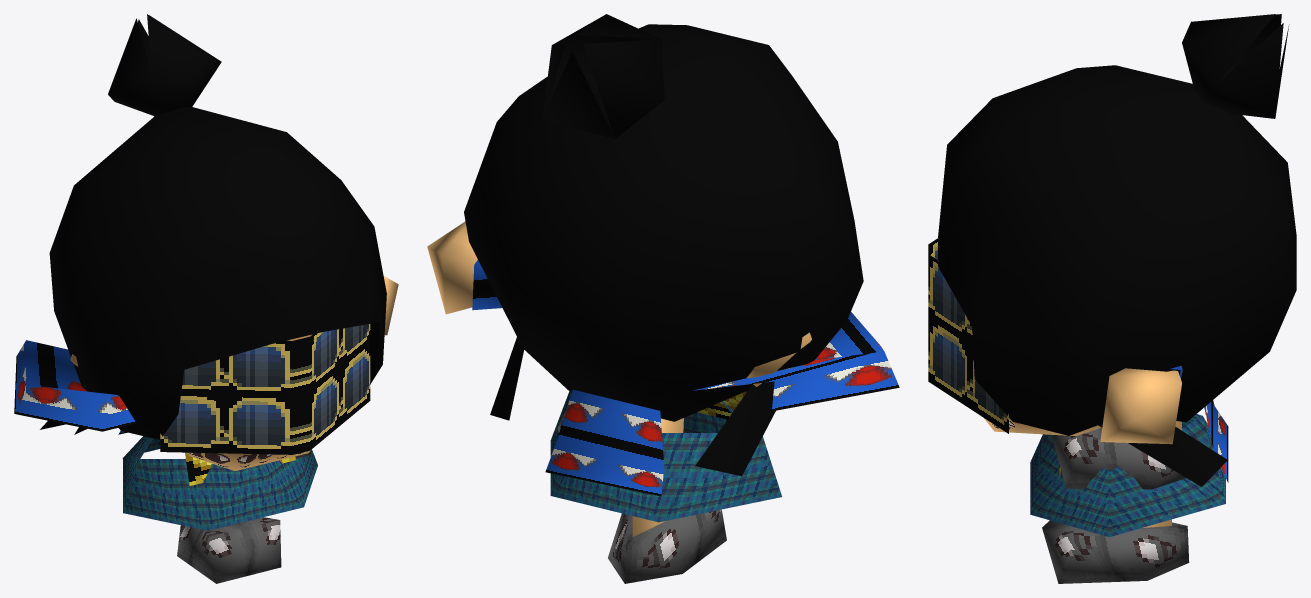
The picture shows the model from 3 angles, left to right: view 1: azimuth 30°, elevation 25°; view 2: azimuth 150°, elevation 25°; view 3: azimuth 270°, elevation 25°; orthographic projection. The views are drawn at different scales.
Parts seen in each view (by area): view 1: pmd50_00_01; view 2: pmd50_00_01; view 3: pmd50_00_01.
Boxes of the visible parts, x1=… form: pmd50_00_01: x1=14, y1=14, x2=398, y2=583; pmd50_00_01: x1=427, y1=14, x2=899, y2=583; pmd50_00_01: x1=928, y1=14, x2=1296, y2=583.
Bounding box in the file's own units: 1.22 × 1.46 × 0.886.
Materials: 8 (8 with a texture image).
